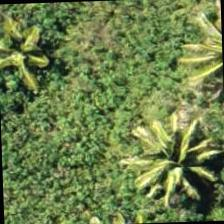Kelapa_Sawit: (136, 91, 223, 185), (157, 114, 223, 207), (0, 9, 54, 102)
